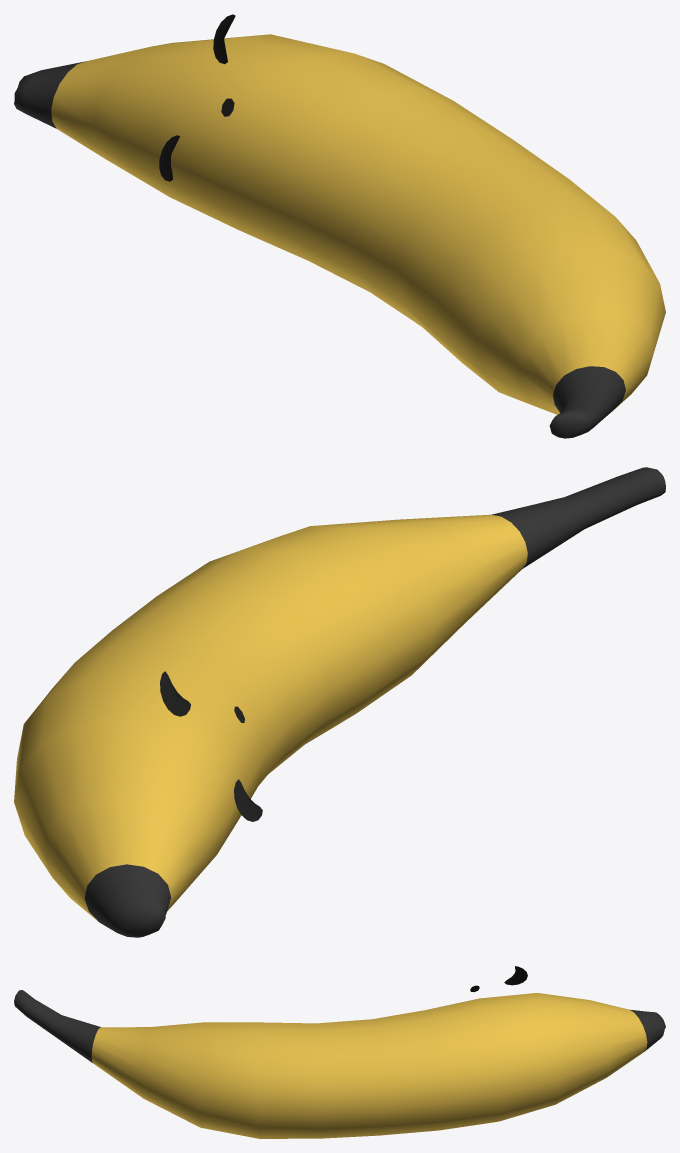
The model's file is item_banana.fbx.
The picture shows the model from 3 angles, top to bottom: view 1: azimuth 30°, elevation 25°; view 2: azimuth 150°, elevation 25°; view 3: azimuth 270°, elevation 25°; orthographic projection. The views are drawn at different scales.
Parts seen in each view (by area): view 1: item_banana; view 2: item_banana; view 3: item_banana.
Boxes of the visible parts, bbox=[...] form: item_banana: bbox=[14, 14, 665, 438]; item_banana: bbox=[14, 467, 665, 937]; item_banana: bbox=[14, 966, 665, 1138].
Bounding box in the file's own units: 79.6 × 56.24 × 241.
